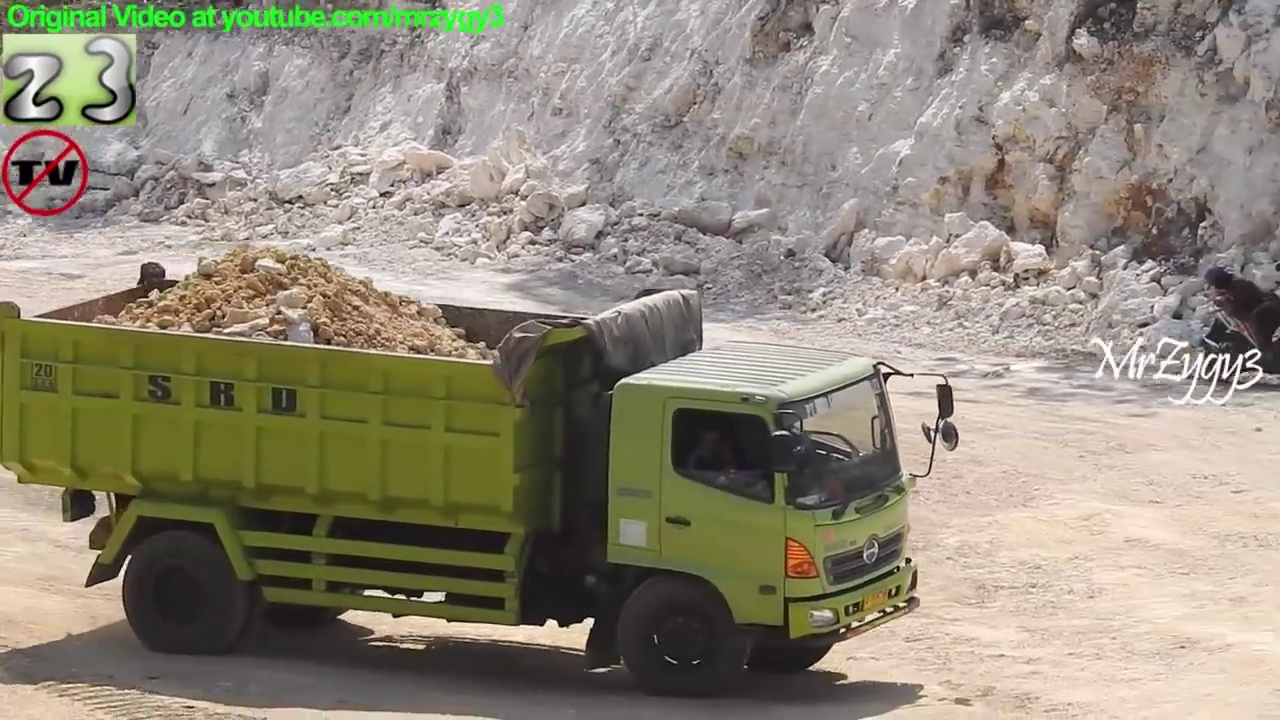truck: (1, 254, 964, 700)
